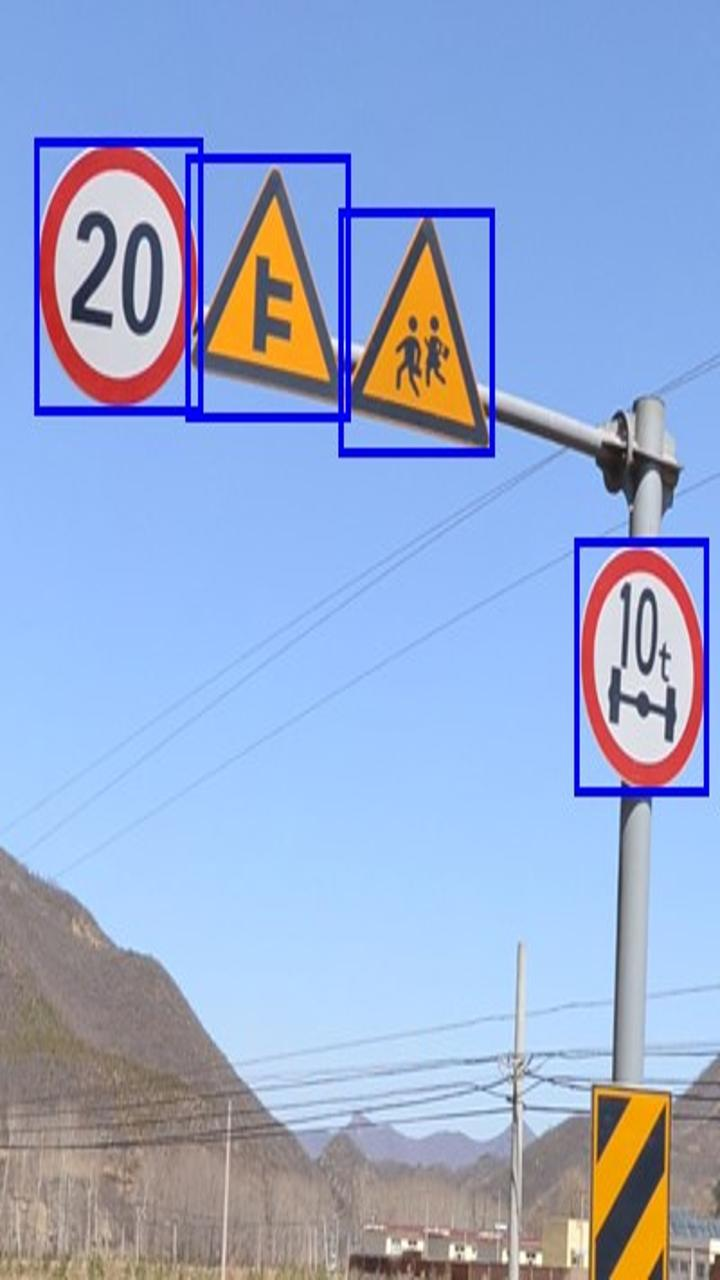Traffic sign: (38, 141, 200, 412), (187, 153, 344, 423), (342, 212, 495, 460), (578, 541, 707, 789), (592, 1084, 669, 1280)
